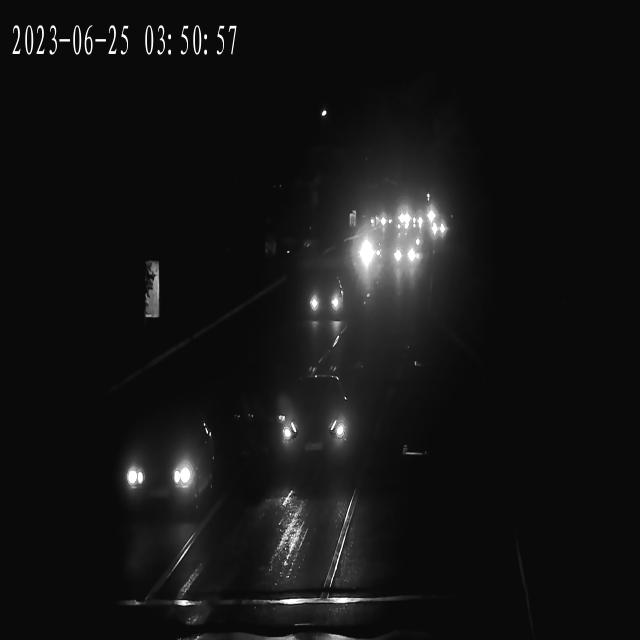Car: (104, 414, 221, 522), (270, 380, 362, 472), (303, 277, 346, 319), (387, 236, 423, 269), (359, 237, 386, 271), (394, 213, 421, 233), (399, 213, 425, 233), (368, 212, 394, 232), (364, 211, 389, 231), (426, 220, 449, 239), (403, 213, 427, 230), (429, 223, 452, 240), (392, 212, 413, 230)
